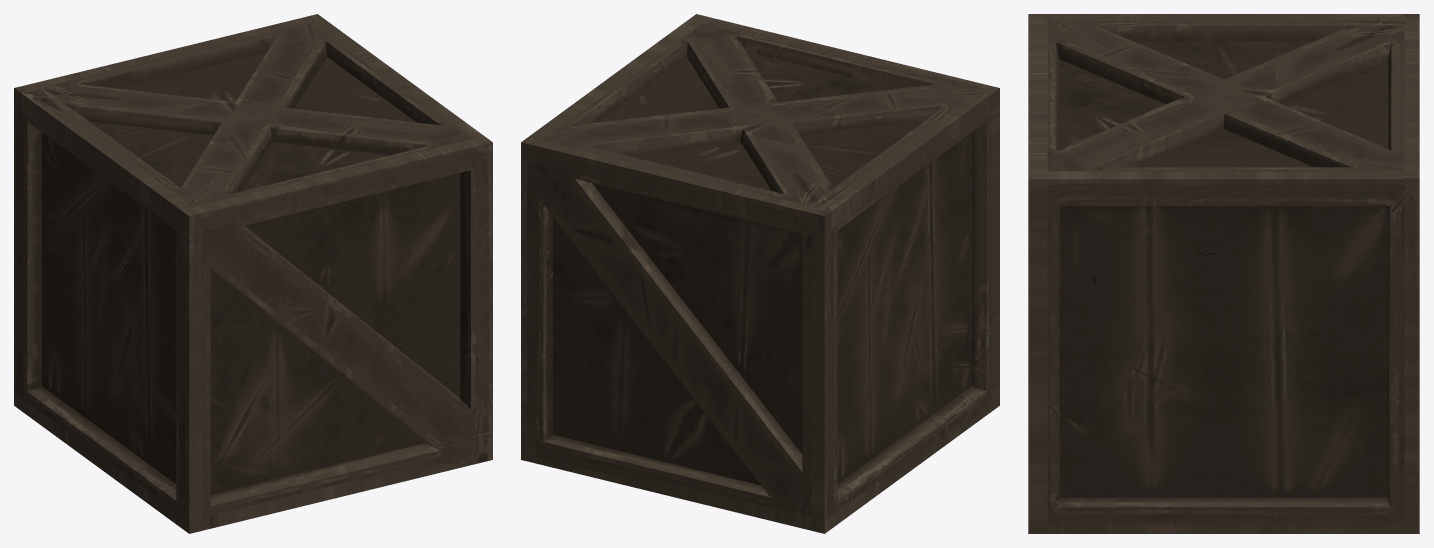
Rendered from P_Box1_Destroy.gltf.
3 views of the same model, side by side, from view 1: azimuth 30°, elevation 25°; view 2: azimuth 150°, elevation 25°; view 3: azimuth 270°, elevation 25° (orthographic). The views are drawn at different scales.
Visible parts, largest first — view 1: Box_F, Box_L, Box_Up, Box_Down, Box_R, Box_B; view 2: Box_B, Box_Up, Box_L, Box_Down, Box_F, Box_R; view 3: Box_R, Box_Up, Box_F, Box_B, Box_Down, Box_L.
Part boxes in pixels (x1,y1,x2,y2): Box_F: (180, 136, 492, 533); Box_L: (14, 106, 202, 531); Box_Up: (14, 21, 492, 233); Box_Down: (14, 392, 461, 533); Box_R: (310, 19, 492, 463); Box_B: (14, 14, 323, 395); Box_B: (521, 137, 831, 519); Box_Up: (521, 14, 999, 233); Box_L: (811, 85, 999, 533); Box_Down: (521, 393, 999, 533); Box_F: (688, 14, 999, 411); Box_R: (521, 14, 708, 463); Box_R: (1028, 171, 1419, 533); Box_Up: (1028, 14, 1419, 199); Box_F: (1028, 14, 1047, 533); Box_B: (1404, 14, 1419, 533); Box_Down: (1028, 519, 1419, 533); Box_L: (1029, 14, 1404, 20).
Size of the model in its own units: 1 by 1 by 1.
Materials: 1 (1 with a texture image).
